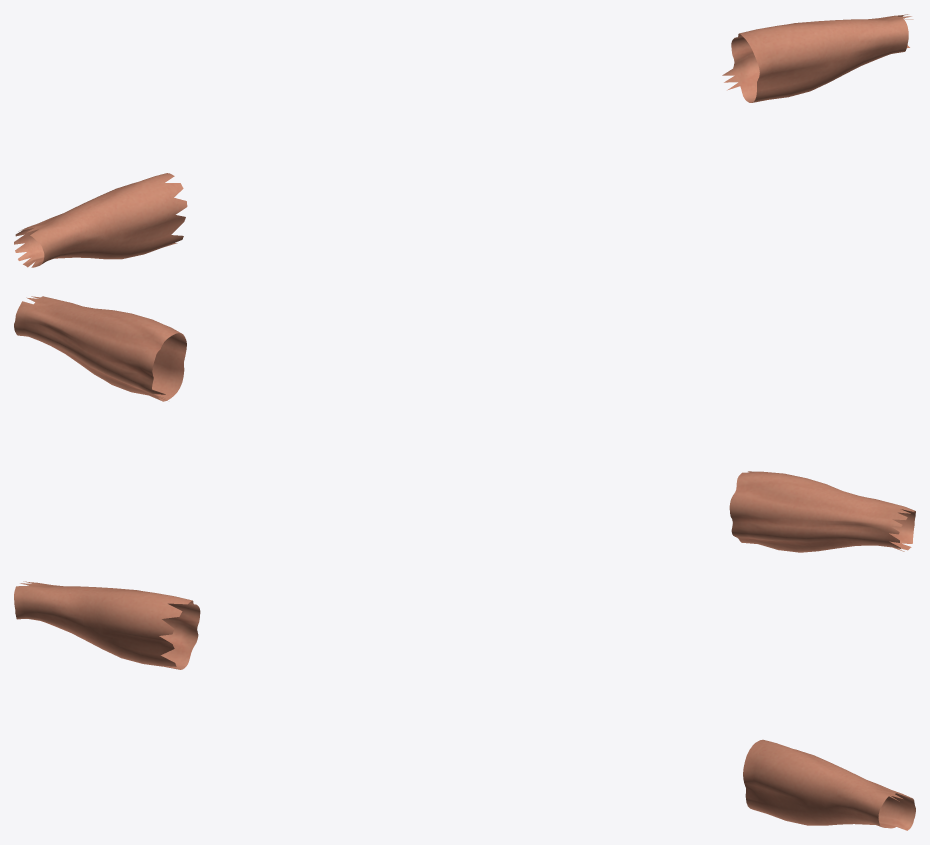
Rendered from forearms.glb.
3 renders of one model, top to bottom at view 1: azimuth 30°, elevation 25°; view 2: azimuth 150°, elevation 25°; view 3: azimuth 330°, elevation 25°, orthographic.
Visible parts, largest first — view 1: forearms; view 2: forearms; view 3: forearms.
Boxes of the visible parts, <box> form: forearms: <box>14,14,913,267</box>; forearms: <box>14,296,915,552</box>; forearms: <box>14,581,915,830</box>.
Bounding box in the file's own units: 0.1542 × 0.0117 × 0.0116.
Materials: 1 (1 with a texture image).
